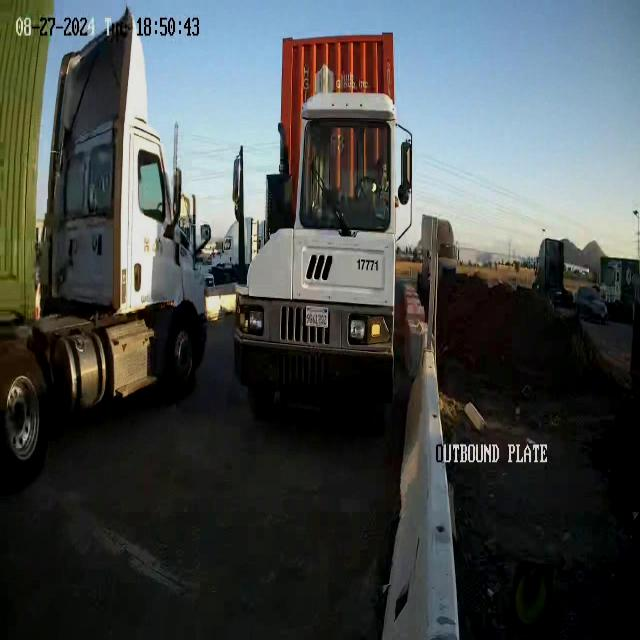TRUCK_CONTAINER: (0, 3, 213, 475), (232, 31, 414, 419)
